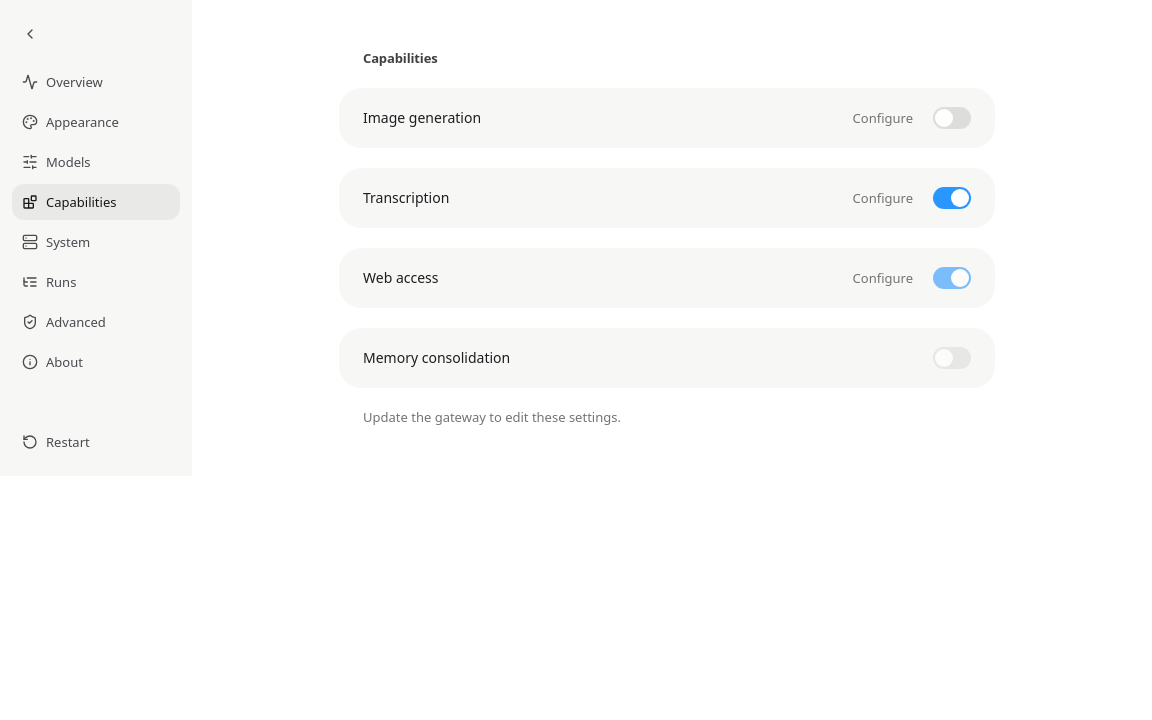
Settings capabilities › keeps missing image credentials local and does not submit an invalid draft
Click the switch named "Image generation" at (952, 118), box x1=933 y1=107 x2=971 y2=129
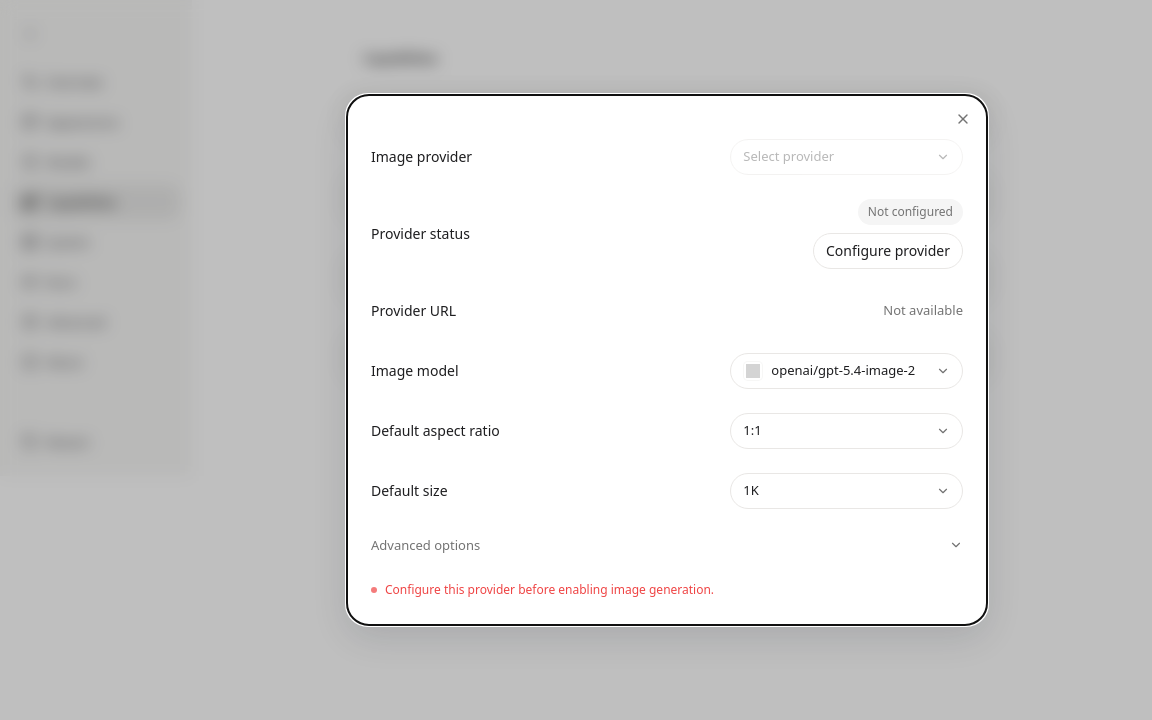
Check: the message reads "Configure this provider before enabling image generation.", box x1=385 y1=580 x2=714 y2=598
Check: the number of messages is 1, box x1=371 y1=580 x2=714 y2=598
